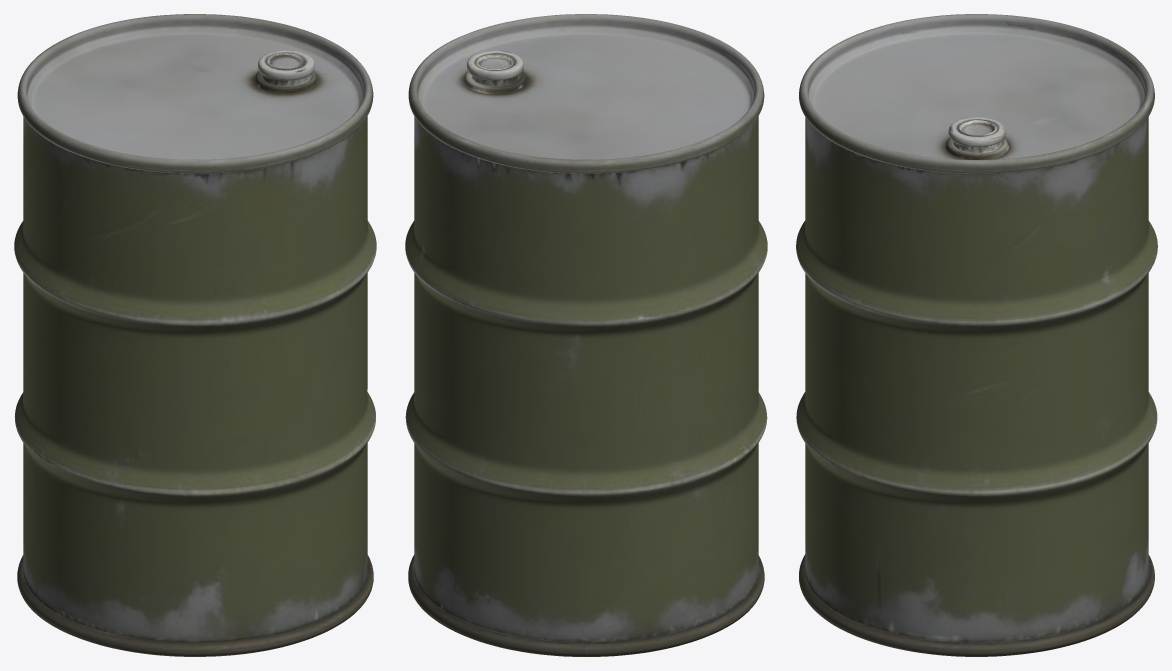
Rendered from prop_barrel_a.glb.
3 renders of one model, left to right at view 1: azimuth 30°, elevation 25°; view 2: azimuth 150°, elevation 25°; view 3: azimuth 270°, elevation 25°, orthographic.
Visible parts, largest first — view 1: node_0; view 2: node_0; view 3: node_0.
Part boxes in pixels (left/top/right/bottom): node_0: left=14, top=14, right=376, bottom=656; node_0: left=405, top=14, right=767, bottom=656; node_0: left=796, top=14, right=1157, bottom=656.
Bounding box in the file's own units: 0.6667 × 1.02 × 0.6655.
Materials: 1 (1 with a texture image).
